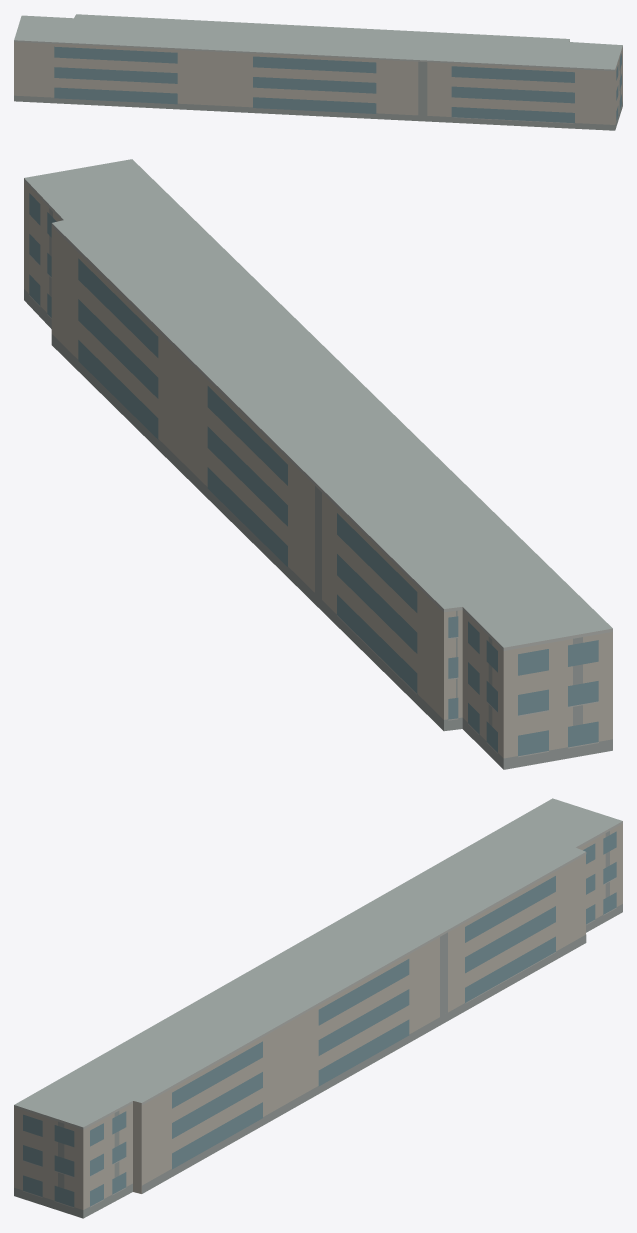
The model's file is residential-3f8bdf0b-8ecc-4523-8f23-a8cfacacdba1.glb.
3 views of the same model, one above another, from view 1: azimuth 30°, elevation 25°; view 2: azimuth 150°, elevation 25°; view 3: azimuth 270°, elevation 25° (orthographic). The views are drawn at different scales.
Parts seen in each view (by area): view 1: residential-3f8bdf0b-8ecc-4523-8f23-a8cfacacdba1.tmp; view 2: residential-3f8bdf0b-8ecc-4523-8f23-a8cfacacdba1.tmp; view 3: residential-3f8bdf0b-8ecc-4523-8f23-a8cfacacdba1.tmp.
Boxes of the visible parts, <box> form: residential-3f8bdf0b-8ecc-4523-8f23-a8cfacacdba1.tmp: <box>14,14,622,130</box>; residential-3f8bdf0b-8ecc-4523-8f23-a8cfacacdba1.tmp: <box>24,159,612,769</box>; residential-3f8bdf0b-8ecc-4523-8f23-a8cfacacdba1.tmp: <box>14,798,622,1218</box>.
Bounding box in the file's own units: 70.85 × 9.15 × 55.4.
